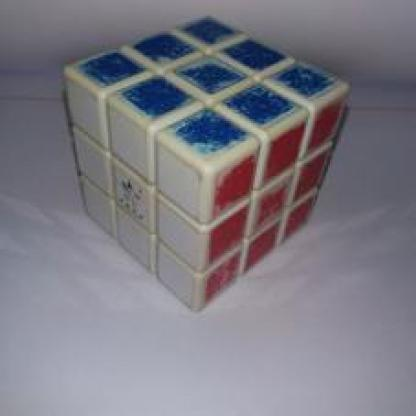cube: (54, 13, 327, 283)
